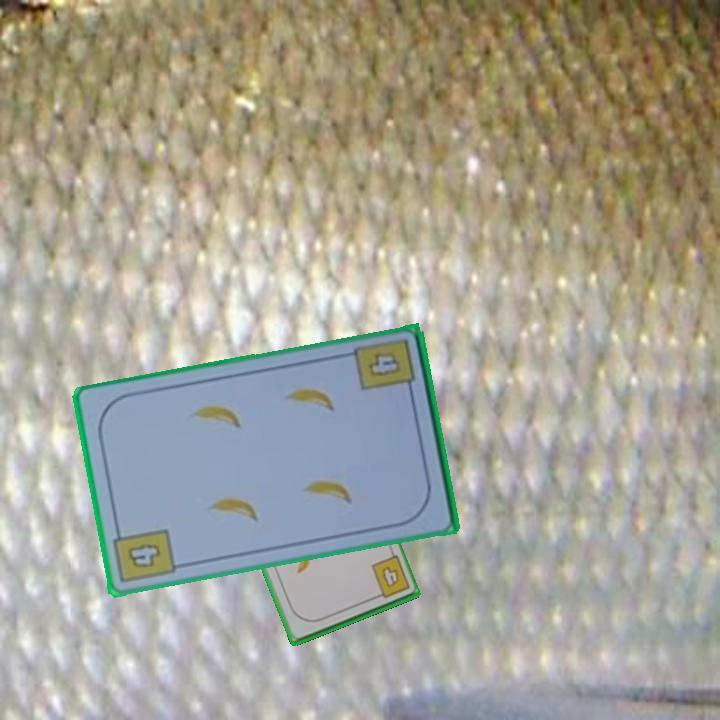4b: (110, 523, 178, 587), (367, 552, 412, 602), (364, 349, 404, 380)
